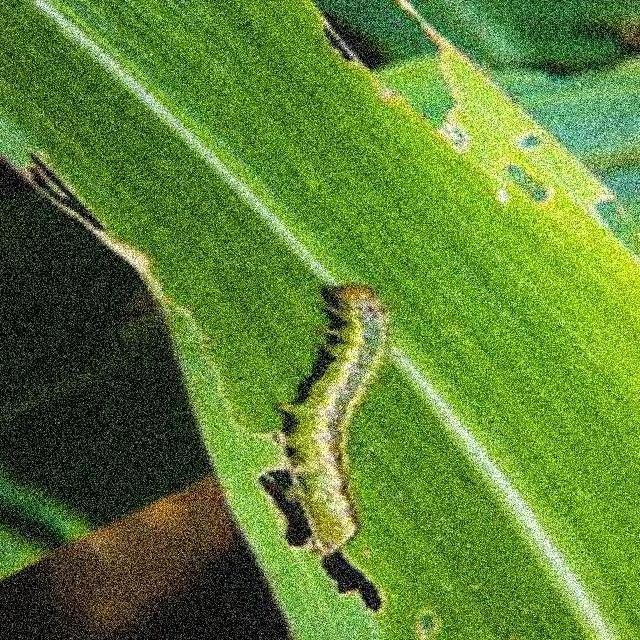gusano_cogollero: (278, 274, 390, 554)
